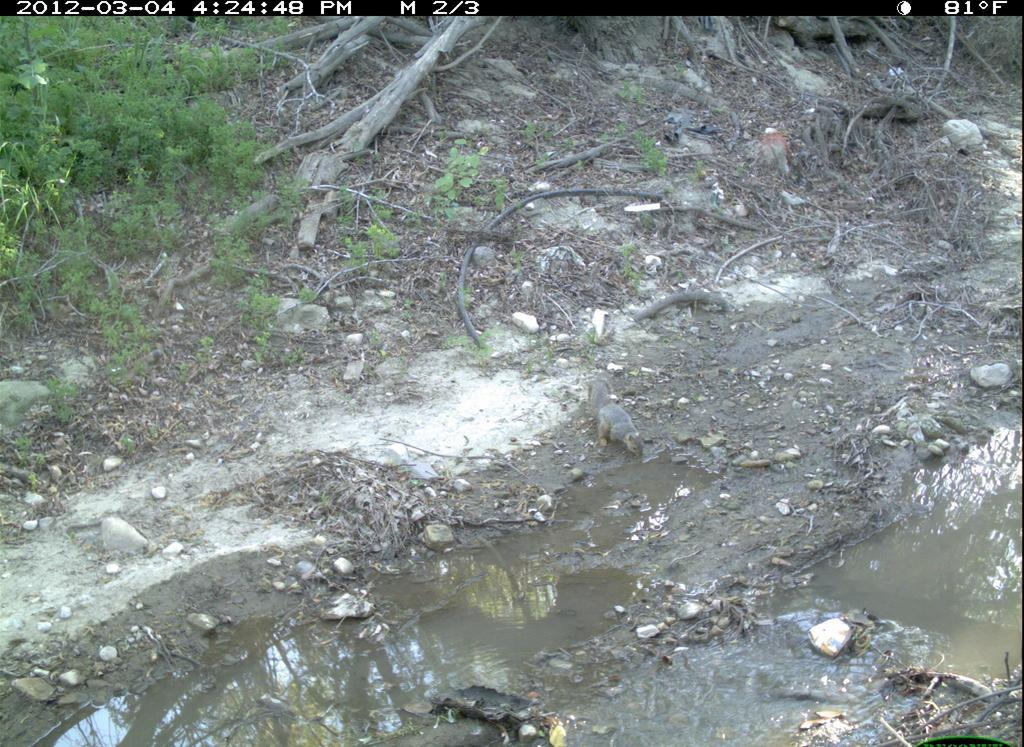squirrel: (581, 361, 659, 472)
